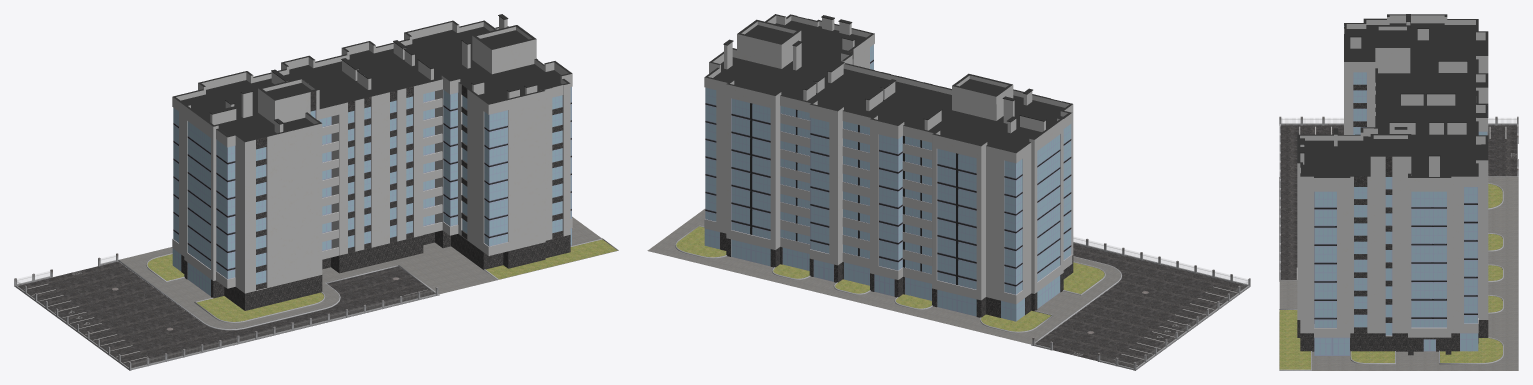
3 views of the same model, side by side, from view 1: azimuth 30°, elevation 25°; view 2: azimuth 150°, elevation 25°; view 3: azimuth 270°, elevation 25° (orthographic). The views are drawn at different scales.
Visible parts, largest first — view 1: building, ground; view 2: building, ground; view 3: building, ground.
Part boxes in pixels (x1=…): building: x1=172, y1=14, x2=572, y2=310; ground: x1=14, y1=216, x2=618, y2=370; building: x1=704, y1=14, x2=1073, y2=321; ground: x1=647, y1=209, x2=1250, y2=370; building: x1=1297, y1=14, x2=1488, y2=355; ground: x1=1279, y1=116, x2=1518, y2=370.
Size of the model in its own units: 8549 by 3174 by 3503.
2 materials, 2 textured.
